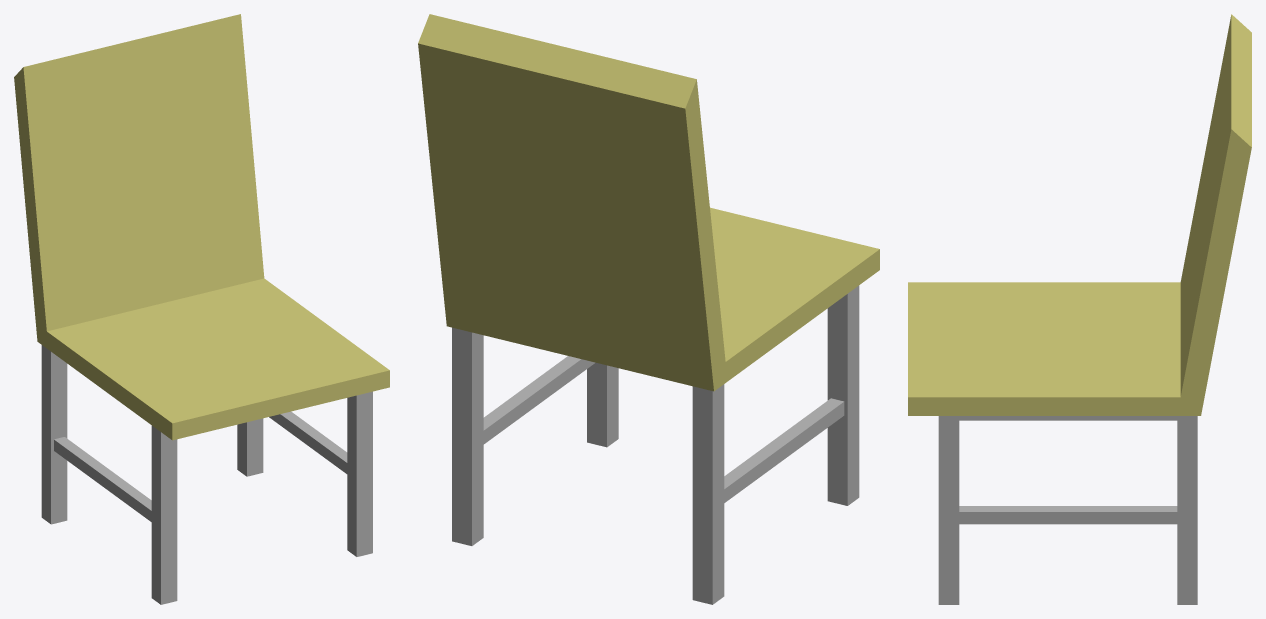
Rendered from Chair5.fbx.
The picture shows the model from 3 angles, left to right: view 1: azimuth 30°, elevation 25°; view 2: azimuth 150°, elevation 25°; view 3: azimuth 270°, elevation 25°; orthographic projection. The views are drawn at different scales.
Visible parts, largest first — view 1: Cube; view 2: Cube; view 3: Cube.
Part boxes in pixels (x1,y1,x2,y2): Cube: (14, 14, 389, 604); Cube: (418, 14, 879, 604); Cube: (908, 14, 1251, 604).
Size of the model in its own units: 0.76 by 1.47 by 0.9587.
